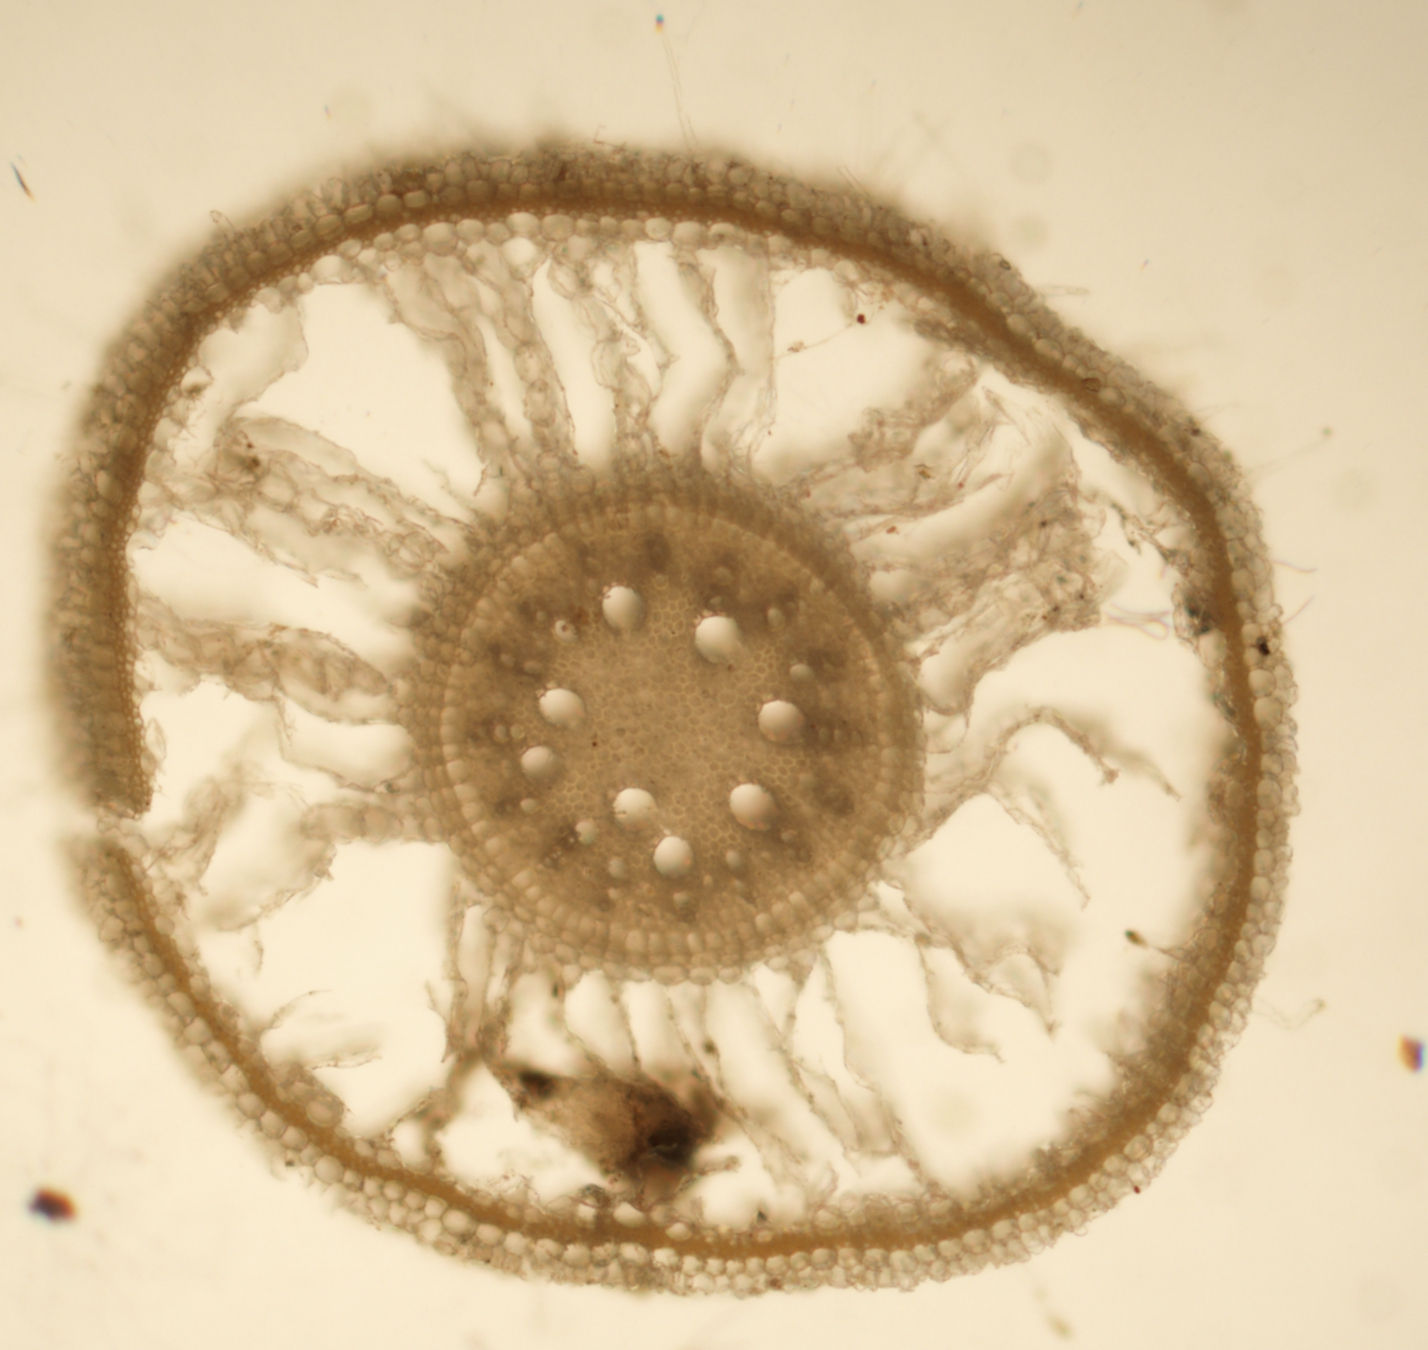lm: (694, 615, 744, 665), (729, 783, 780, 831), (757, 700, 808, 745), (601, 585, 646, 634), (613, 787, 658, 834), (538, 688, 587, 730), (520, 746, 566, 789), (653, 835, 695, 881)
